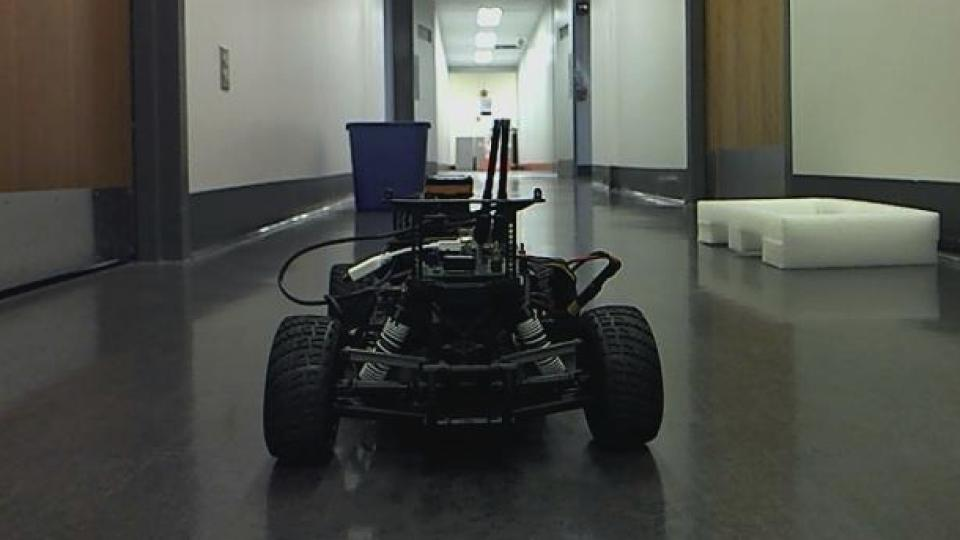car: (260, 117, 669, 469)
